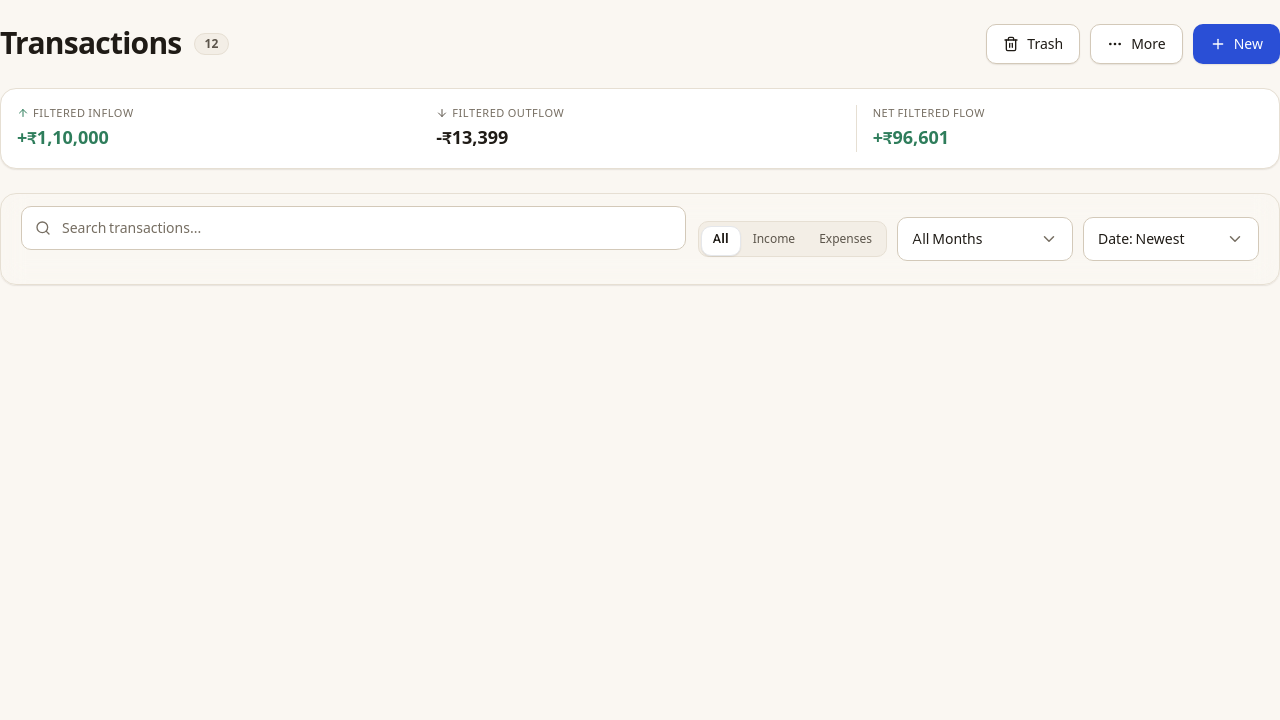
Phase 5: Transactions Redesign Screen › 4. Add and Edit Form (Slide-over, session memory, Enter, blur validation) › clicking "+ New" opens slide-over panel with title "New Transaction"
Click the button with id "txNewBtn" at (1236, 44), box [1193,24,1279,64]
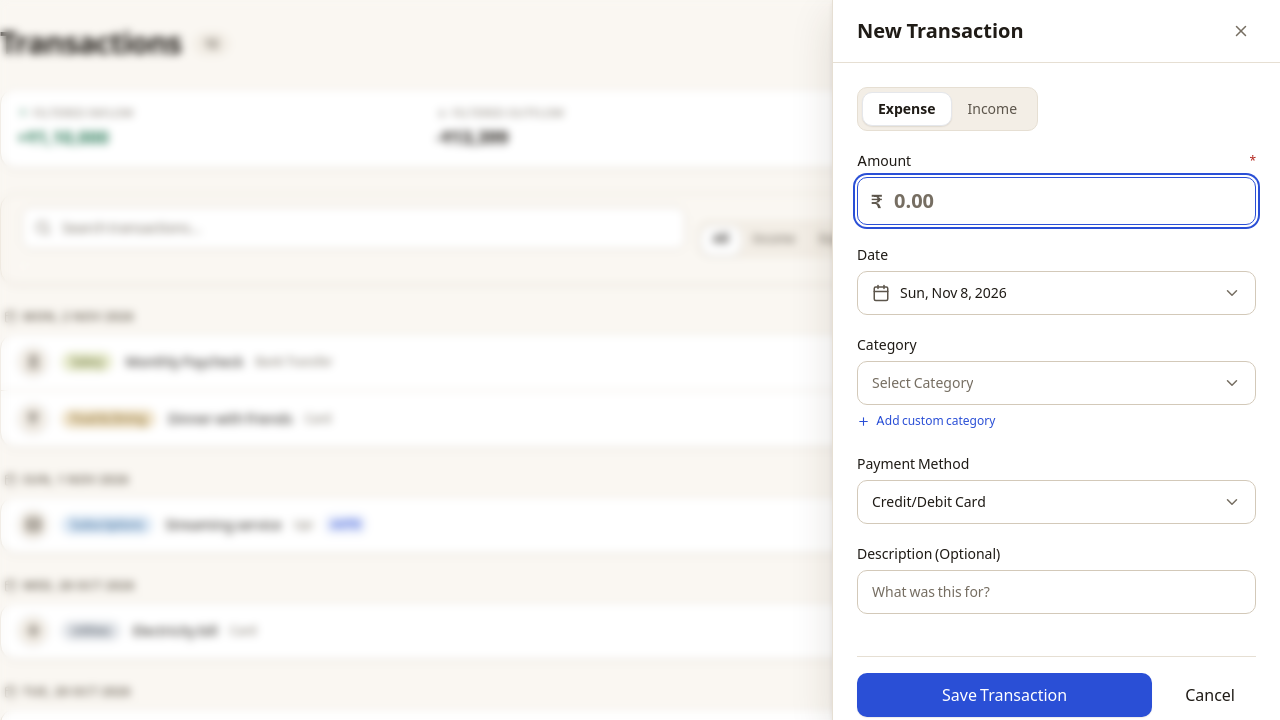
Expected: the heading "New Transaction" is shown, [857,17,1024,45]
Expected: the button named "Close form" is shown, [1226,16,1256,46]
